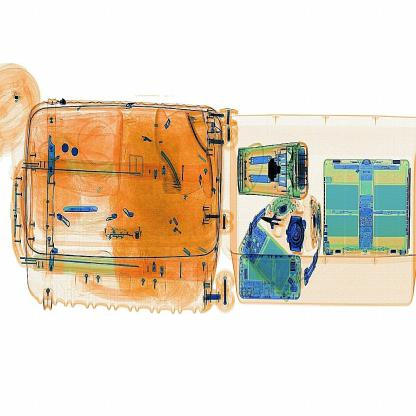gun: (260, 200, 302, 241)
